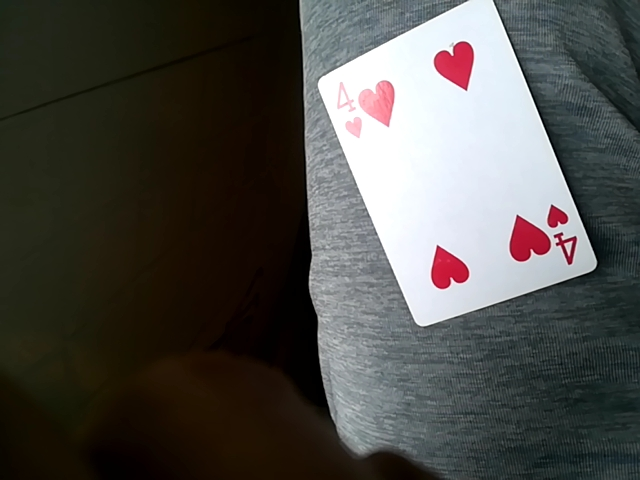hx 4: (314, 6, 599, 332)
